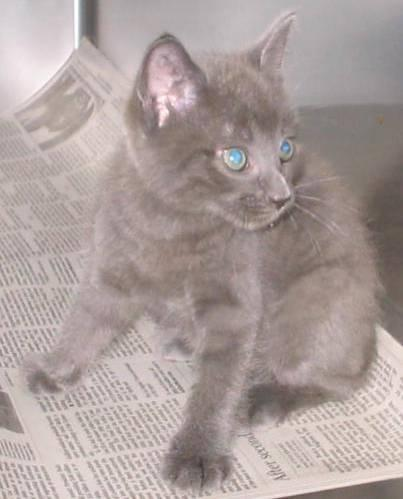cat: (25, 15, 378, 488)
